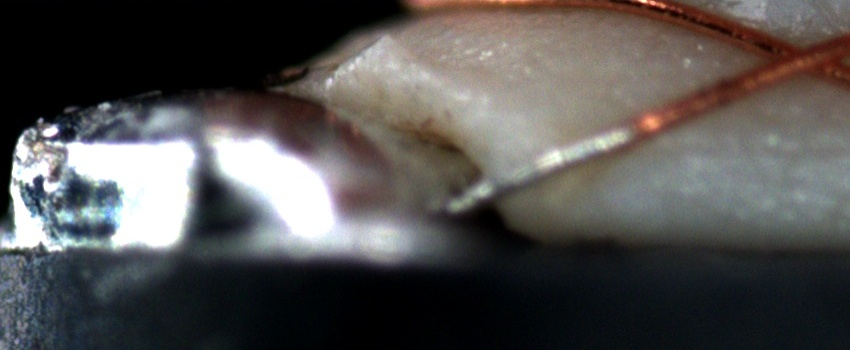CL: (752, 29, 840, 86)
DL: (633, 121, 850, 185)
TS: (446, 123, 639, 216)
